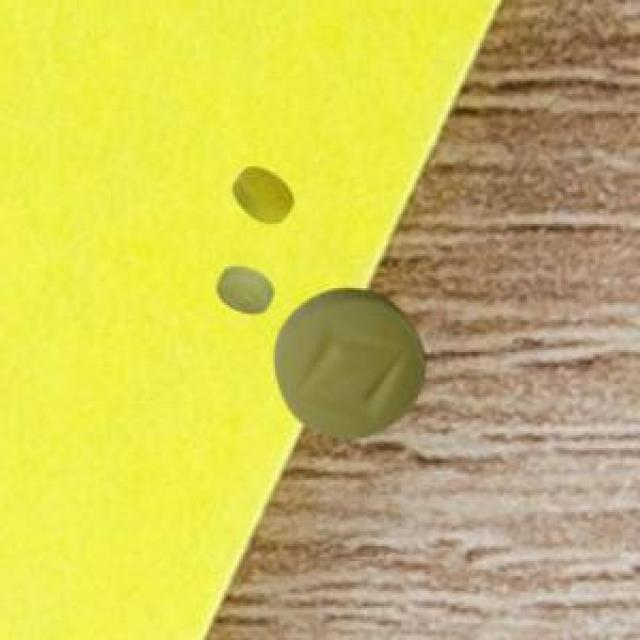Decolgen: (276, 278, 448, 457), (222, 157, 304, 234), (210, 261, 276, 322)
